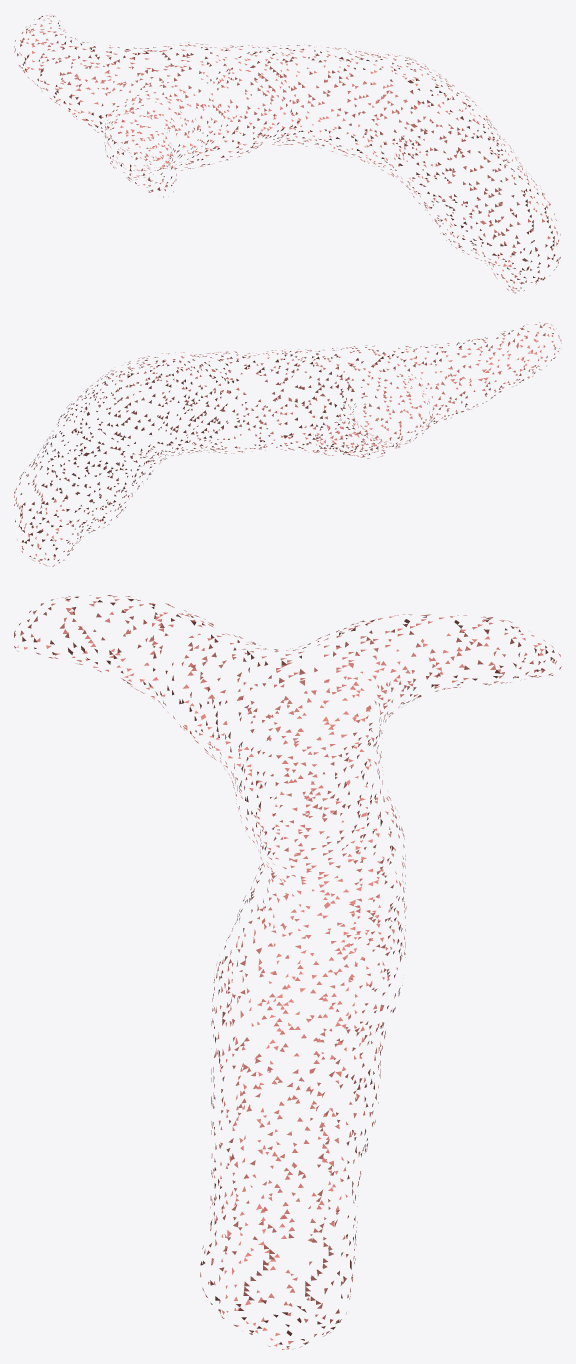
The model's file is morph_001.glb.
3 views of the same model, one above another, from view 1: azimuth 30°, elevation 25°; view 2: azimuth 150°, elevation 25°; view 3: azimuth 270°, elevation 25° (orthographic). The views are drawn at different scales.
Bounding box in the file's own units: 98.54 × 60.05 × 66.97.
